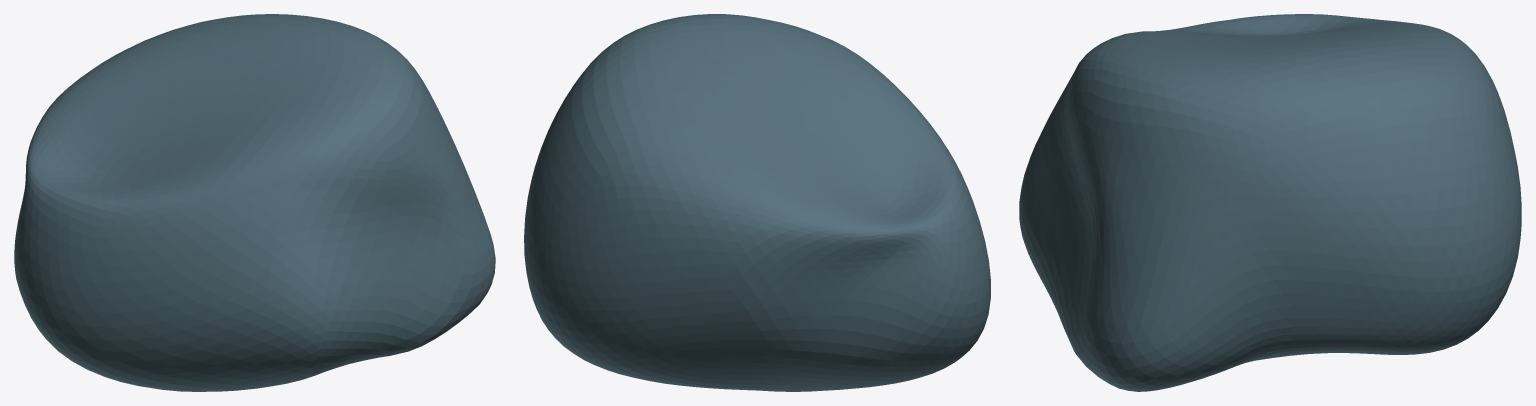
The model's file is Rock3.fbx.
3 renders of one model, left to right at view 1: azimuth 30°, elevation 25°; view 2: azimuth 150°, elevation 25°; view 3: azimuth 270°, elevation 25°, orthographic. The views are drawn at different scales.
Parts seen in each view (by area): view 1: Rock3; view 2: Rock3; view 3: Rock3.
Part boxes in pixels (<box>): Rock3: <box>14,14,495,391</box>; Rock3: <box>524,14,990,391</box>; Rock3: <box>1019,14,1521,391</box>.
Bounding box in the file's own units: 30.49 × 20.55 × 27.87.
